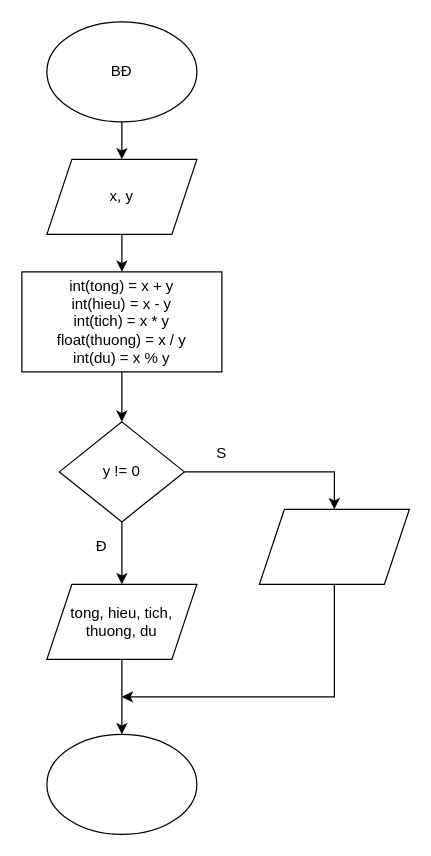
The diagram is 431 pixels wide and 856 high, and some of its shapes have lost their labels. The shapes that lost their labels are listed below. From the top down, each one's centre as x and y in pixels, then its label:
At (333,546): "tong, hieu, tich Loi chia cho 0".
At (121,783): "KT".
